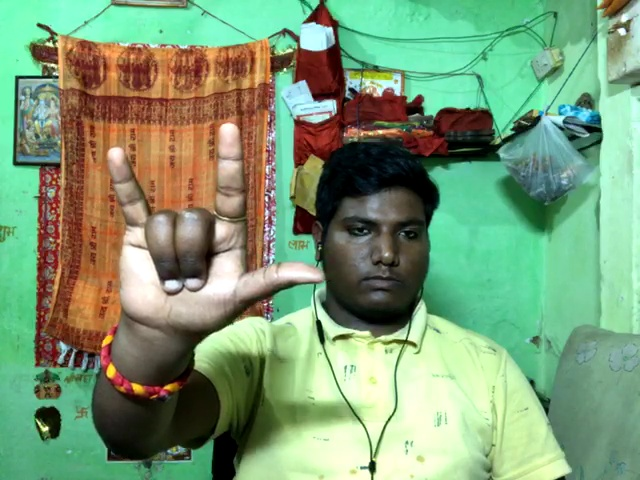I Love You: (71, 112, 346, 380)
